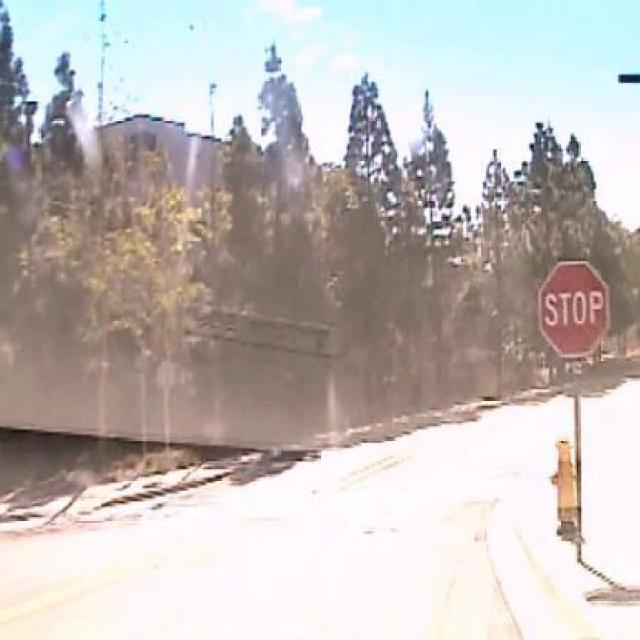Stop: (536, 261, 612, 362)
